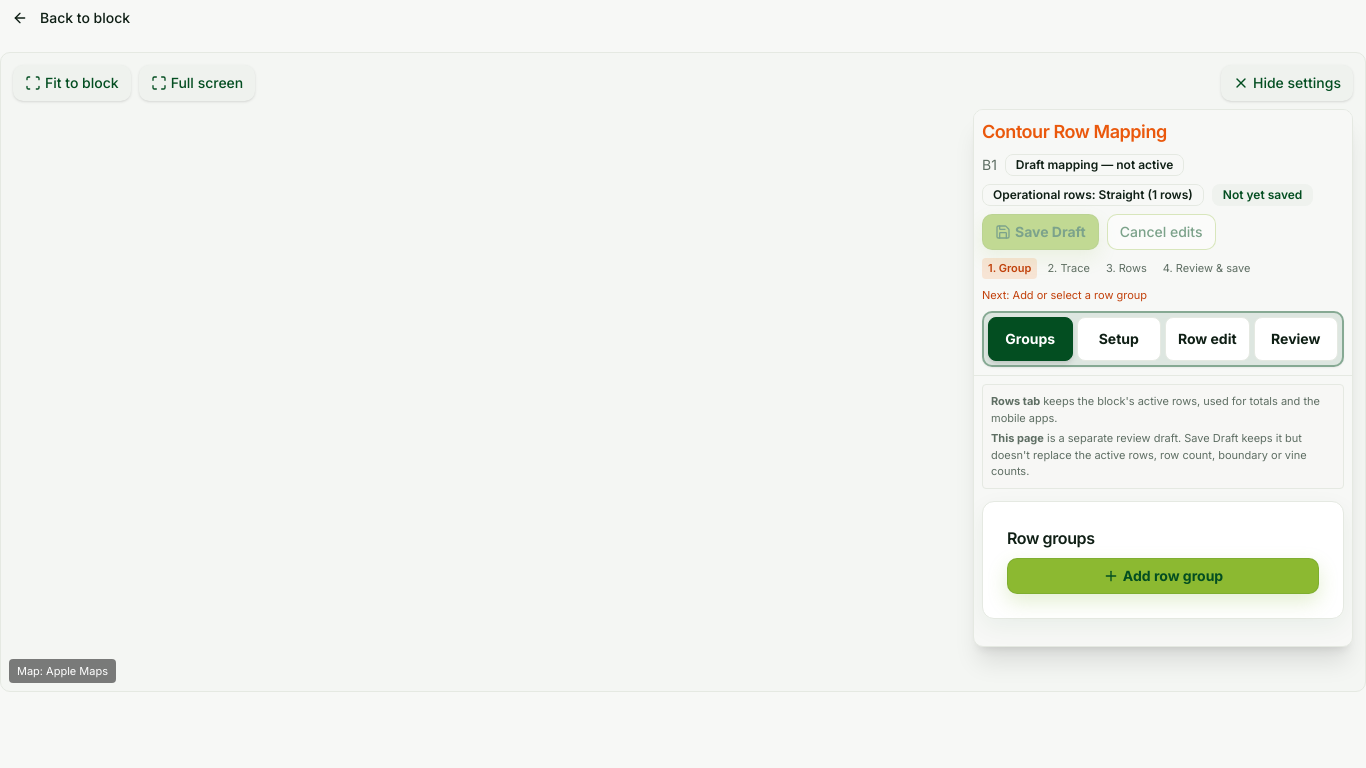
Test: pre-save freshness (F1) › unchanged block saves normally
This screenshot has width=1366, height=768.
Click the button "Add row group" at (1163, 576), box [1007,558,1319,594]
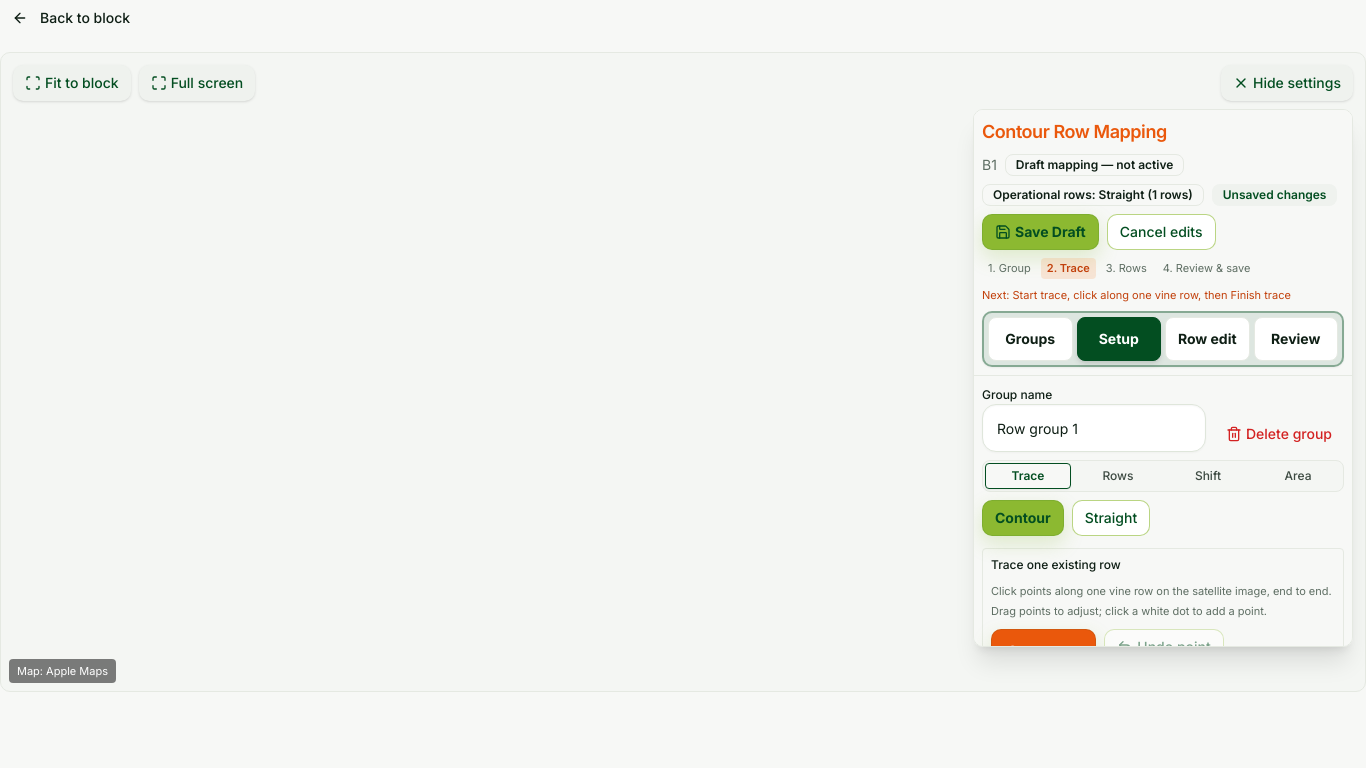
Click the button "Save Draft" at (1040, 232), box [982,214,1099,250]
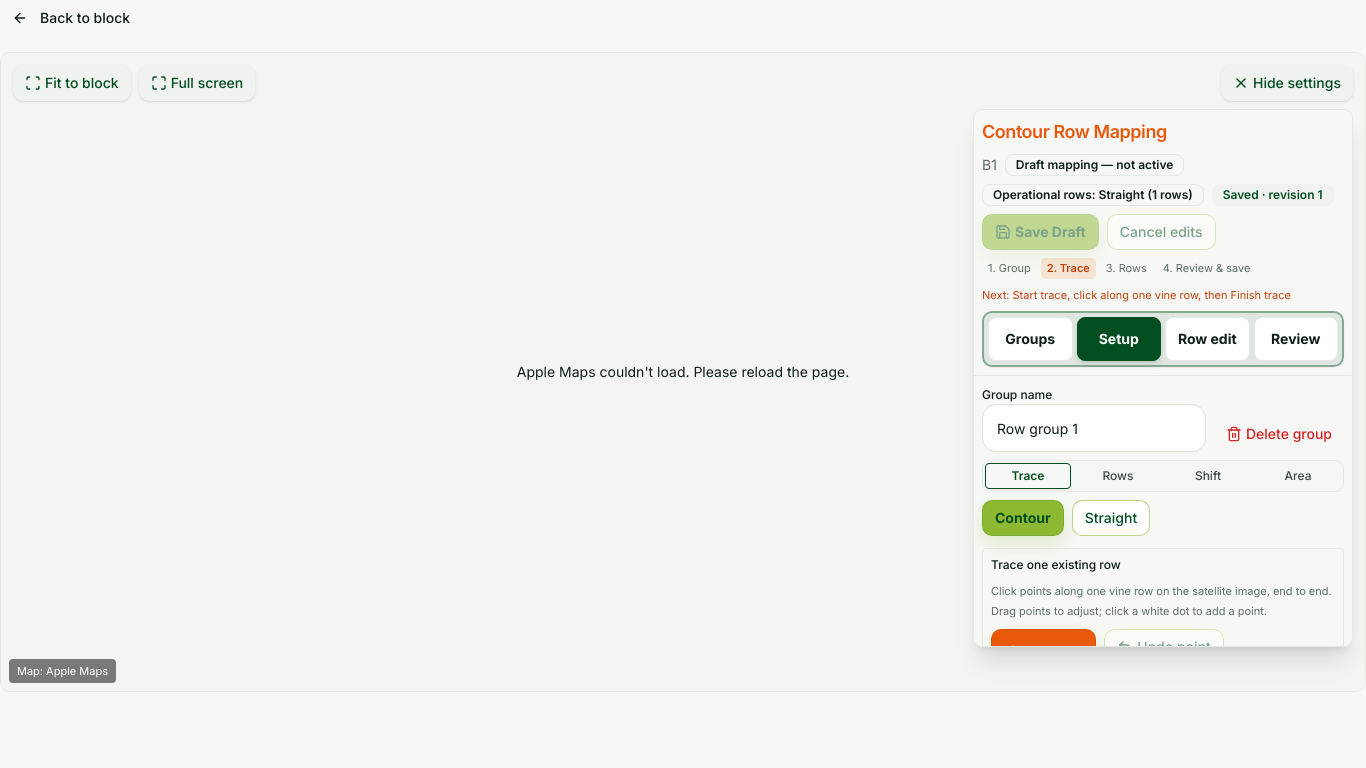
expect the text "Saved · revision 1" is shown: met, box [1212,184,1334,206]
